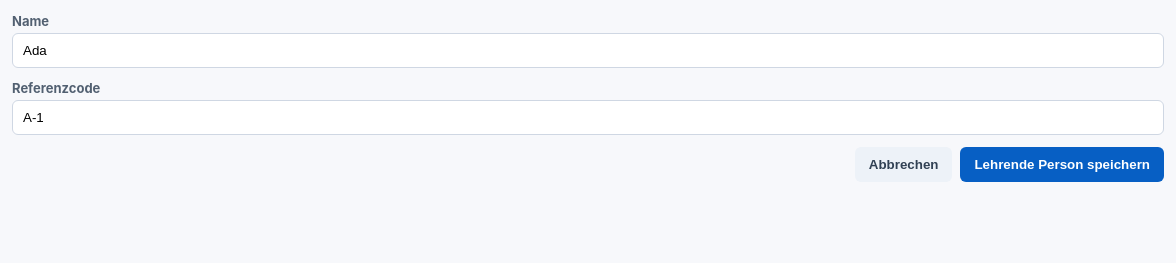
Test: resource administration components › retains controlled invalid input and exposes save feedback
Click the button "Lehrende Person speichern". click: (1062,164)
box: [960,147,1164,182]
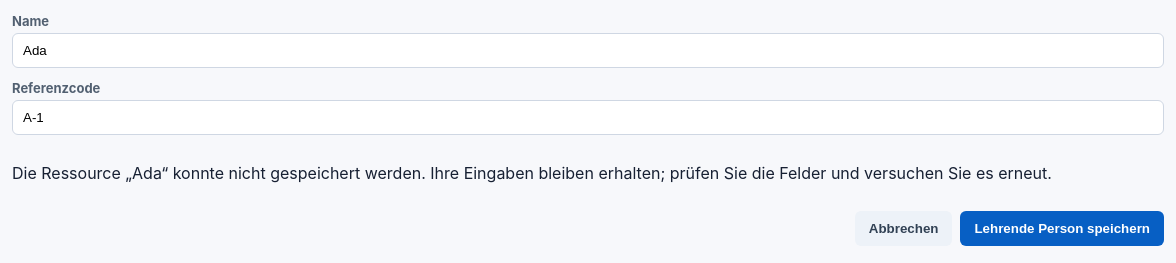
Expected: the field named "referenceCode" holds "A-1", [12,100,1164,135]
Expected: the message shows "Ihre Eingaben bleiben erhalten", [12,163,1052,183]
